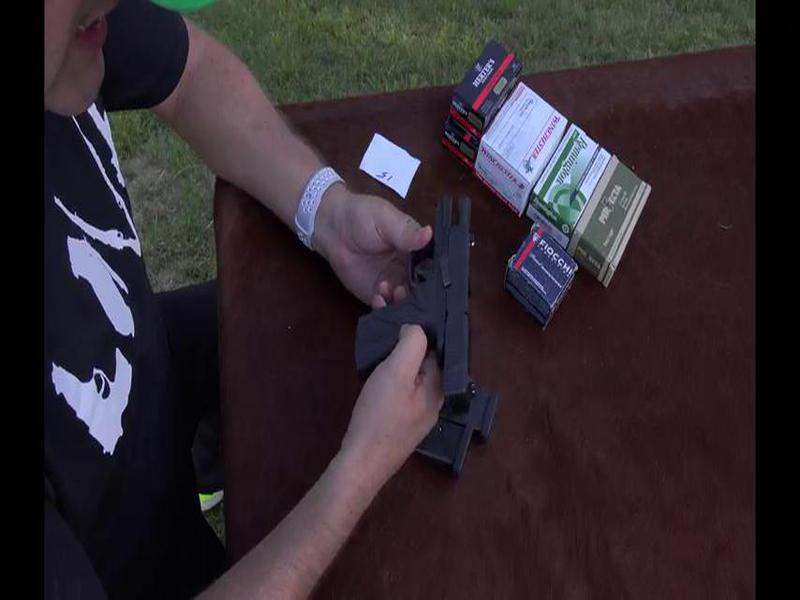Pistola: (357, 183, 490, 410)
